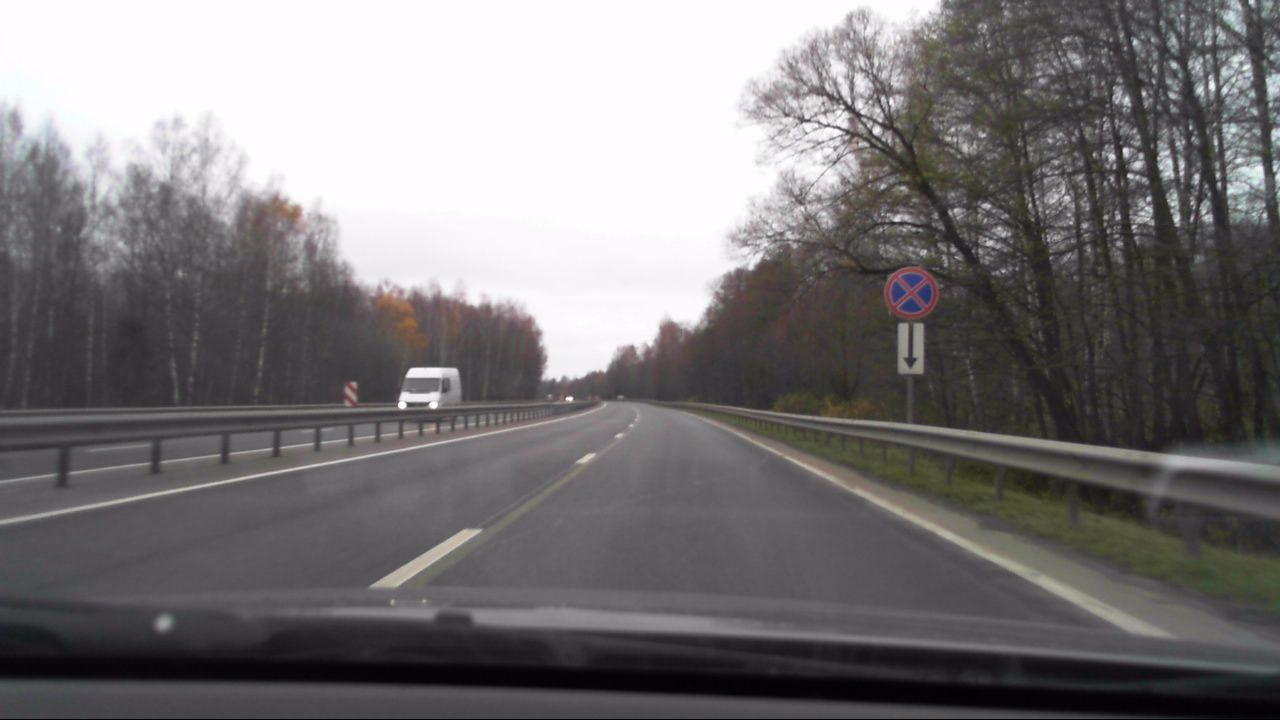3_27: (881, 265, 938, 322)
8_22_1: (346, 377, 360, 409)
8_2_3: (896, 322, 923, 378)
